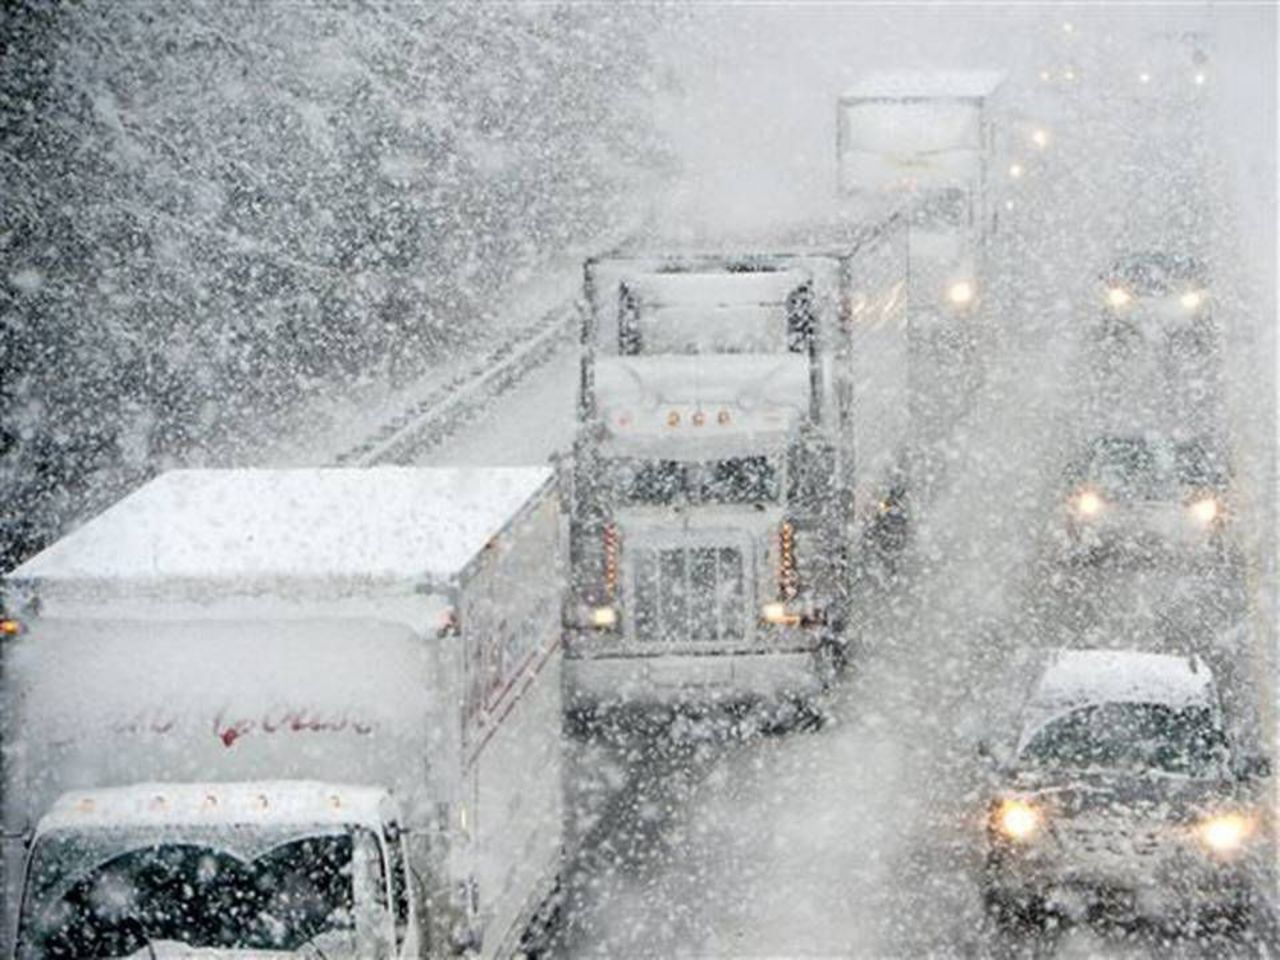car: (974, 666, 1271, 954), (1064, 410, 1245, 564), (1086, 242, 1220, 355), (1130, 29, 1218, 112), (1026, 44, 1089, 97), (1020, 102, 1059, 175), (997, 142, 1031, 207)
person: (9, 471, 555, 955), (548, 215, 906, 736), (838, 66, 1008, 362)
